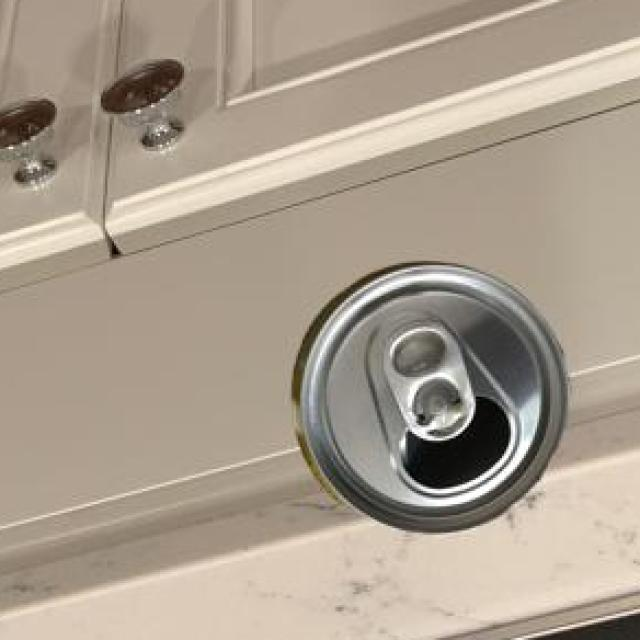logam: (297, 266, 573, 538)
